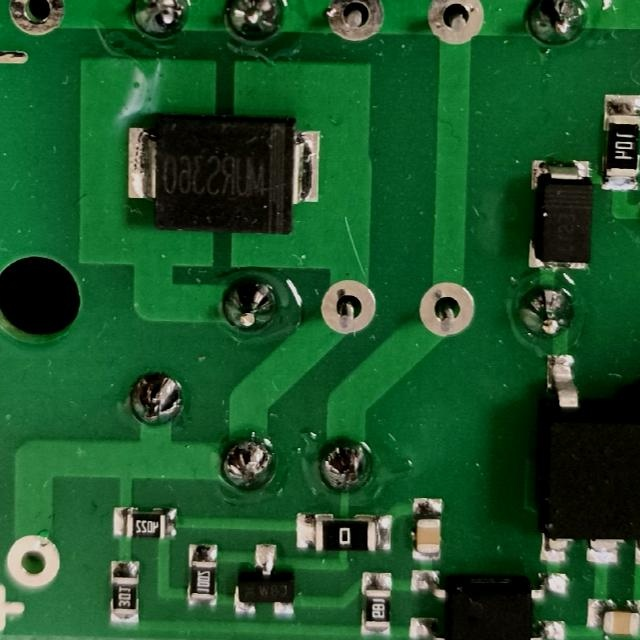chip-capacitor: (409, 496, 447, 563), (584, 597, 640, 636)
chip-resistor: (290, 510, 394, 553), (598, 92, 640, 192), (185, 538, 221, 613), (110, 503, 180, 541), (357, 569, 395, 638), (107, 558, 139, 627)
diode: (122, 113, 324, 235), (524, 158, 596, 274)
ic: (410, 567, 573, 640)
transistor: (229, 539, 300, 619)
